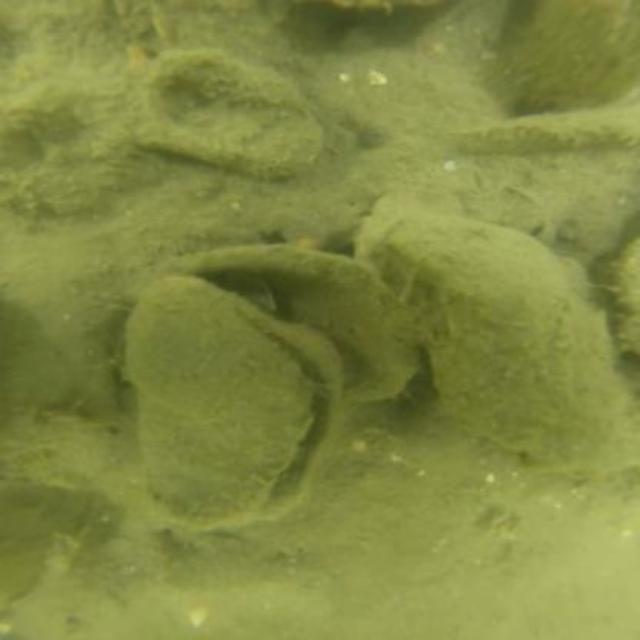Oyster-Closed: (360, 210, 640, 484), (147, 240, 428, 412), (129, 42, 334, 177)
Oyster-Open: (121, 270, 349, 536)
